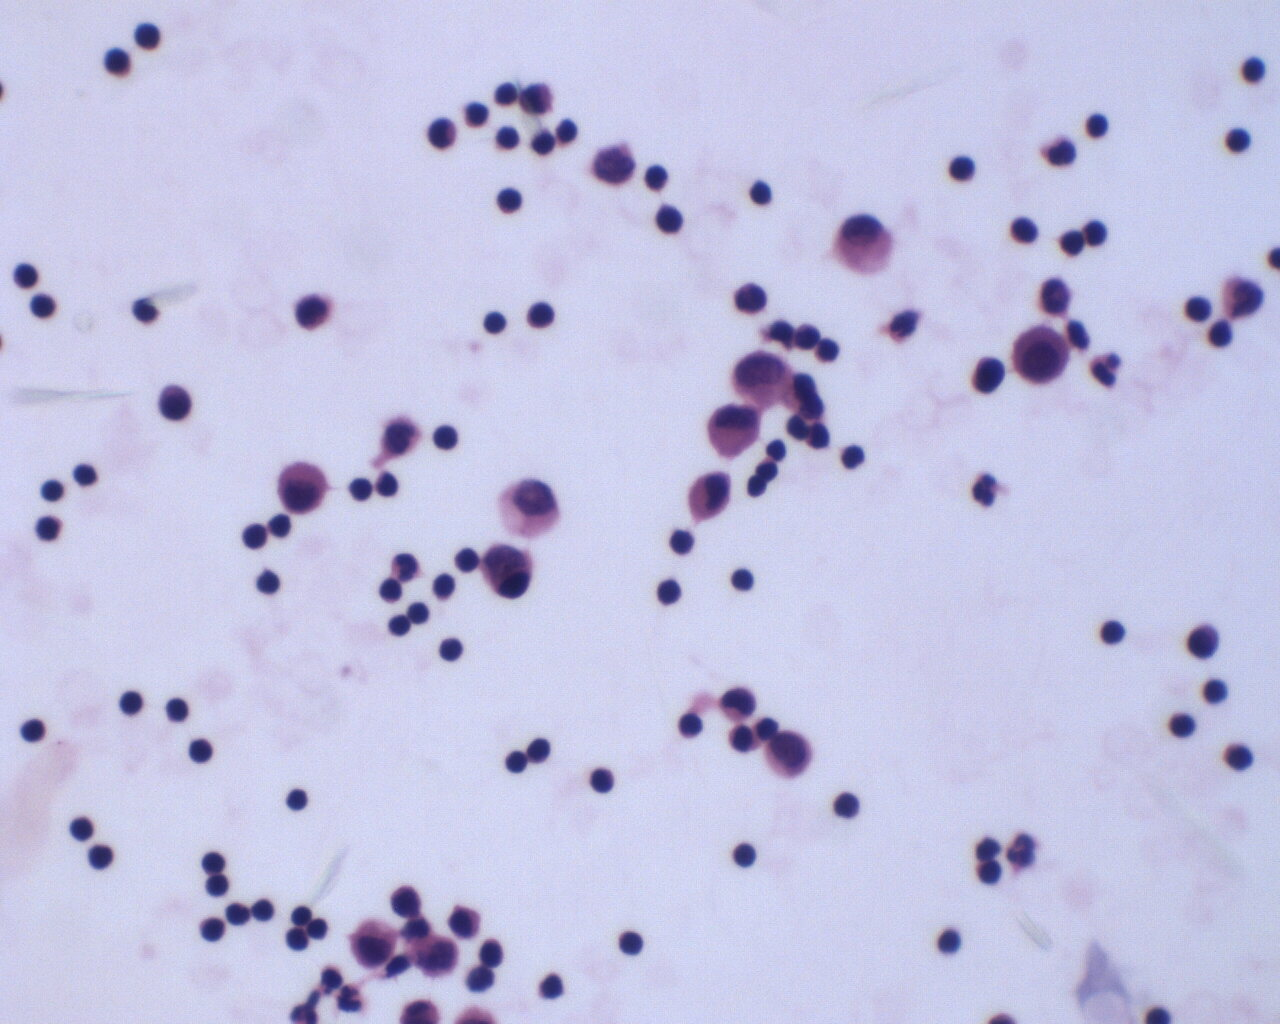ab: (734, 350, 794, 406), (349, 916, 400, 971), (766, 730, 815, 785)
lymph: (152, 385, 204, 425), (493, 179, 527, 222), (95, 41, 131, 80), (16, 712, 52, 749), (1221, 740, 1257, 778), (585, 762, 622, 798), (946, 152, 981, 188), (523, 296, 560, 331), (1198, 671, 1234, 706), (1219, 123, 1258, 156), (1099, 616, 1128, 658), (650, 201, 689, 232), (184, 732, 217, 767), (10, 257, 43, 293), (730, 838, 764, 871), (616, 927, 650, 960), (84, 840, 116, 875), (747, 173, 777, 206), (435, 630, 463, 665), (1080, 109, 1110, 140), (726, 561, 753, 595), (283, 783, 311, 813)
meso: (1010, 317, 1077, 391), (270, 456, 328, 517)
neutro: (961, 468, 1006, 511), (1003, 828, 1041, 872), (1088, 348, 1125, 390)
